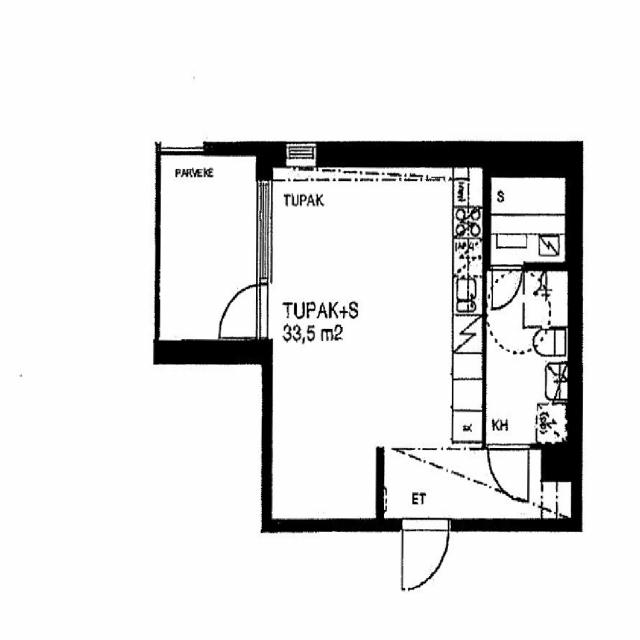door: (402, 519, 448, 593), (216, 284, 272, 337), (488, 444, 528, 502), (492, 262, 521, 310)
